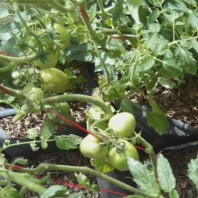tomato: (107, 139, 144, 178), (105, 110, 140, 142), (36, 24, 73, 52), (76, 131, 106, 161), (40, 68, 73, 94), (31, 47, 62, 69), (25, 87, 50, 110)
